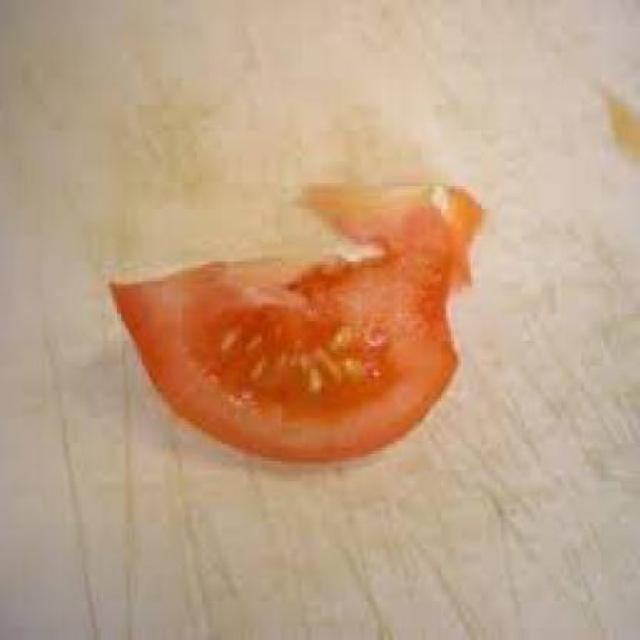BIODEGRADABLE: (109, 186, 486, 466)
